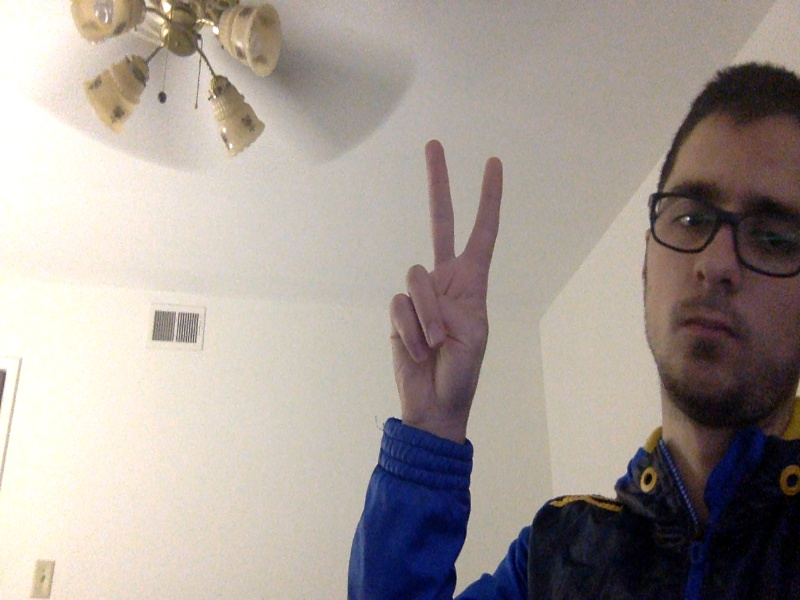2-hand: (386, 140, 503, 424)
